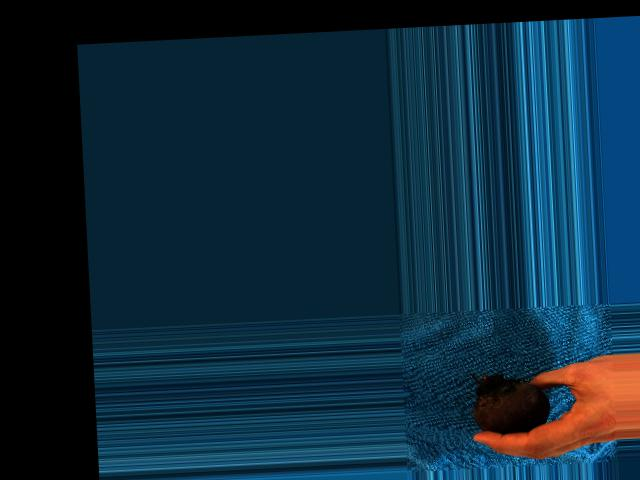beet: (471, 370, 550, 434)
